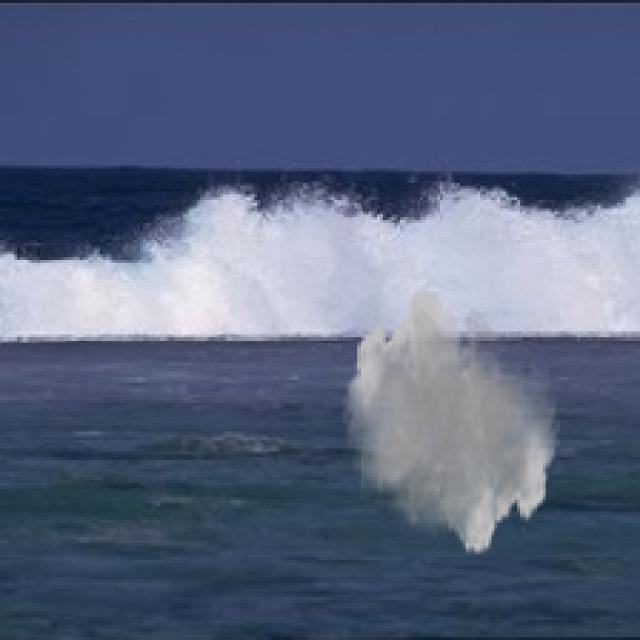smoke: (343, 286, 560, 557)
